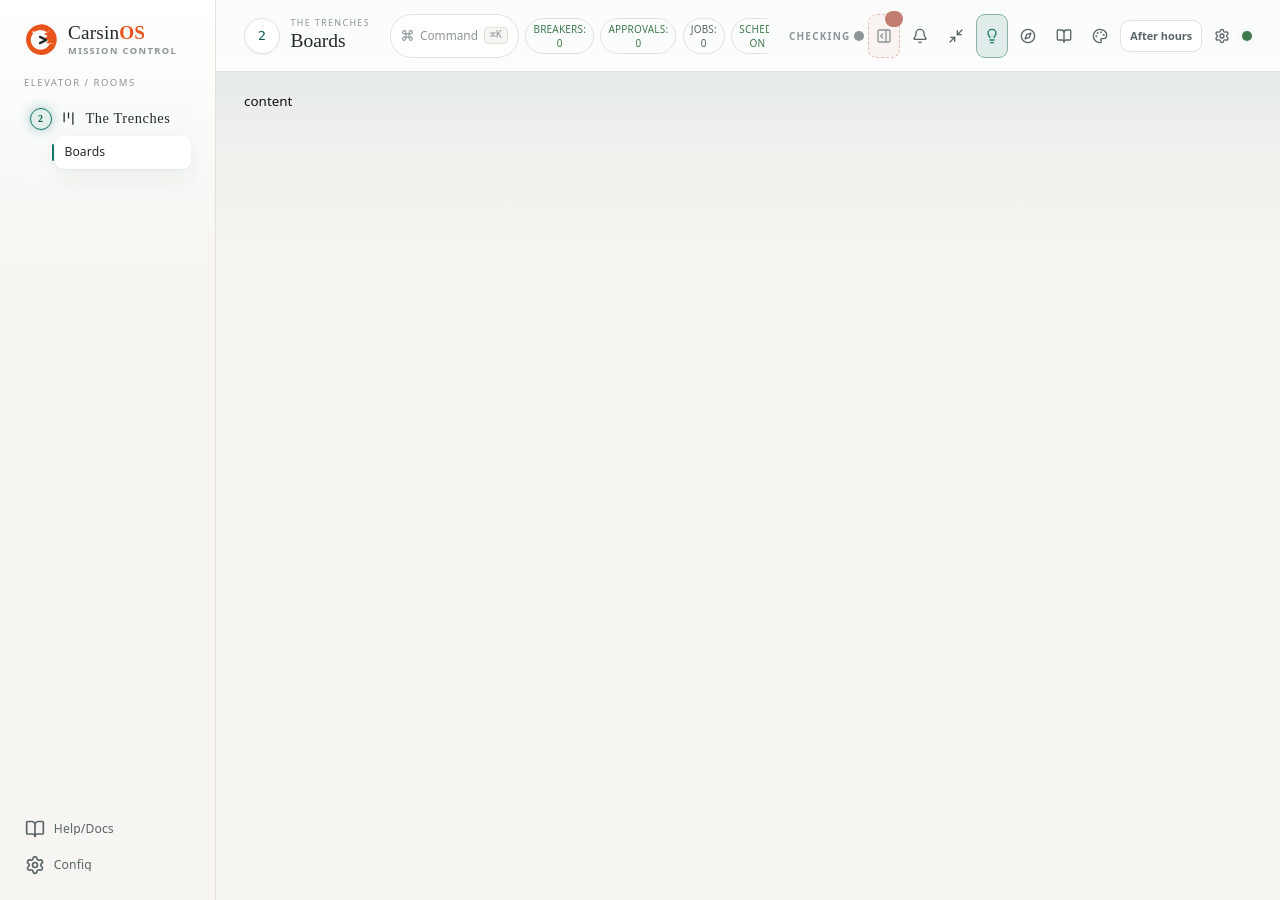
Test: AppShell live feed toggle › opens settings when the live feed feature is unavailable
Click the button with test id "live-feed-toggle" at (884, 36), box [868,14,900,58]
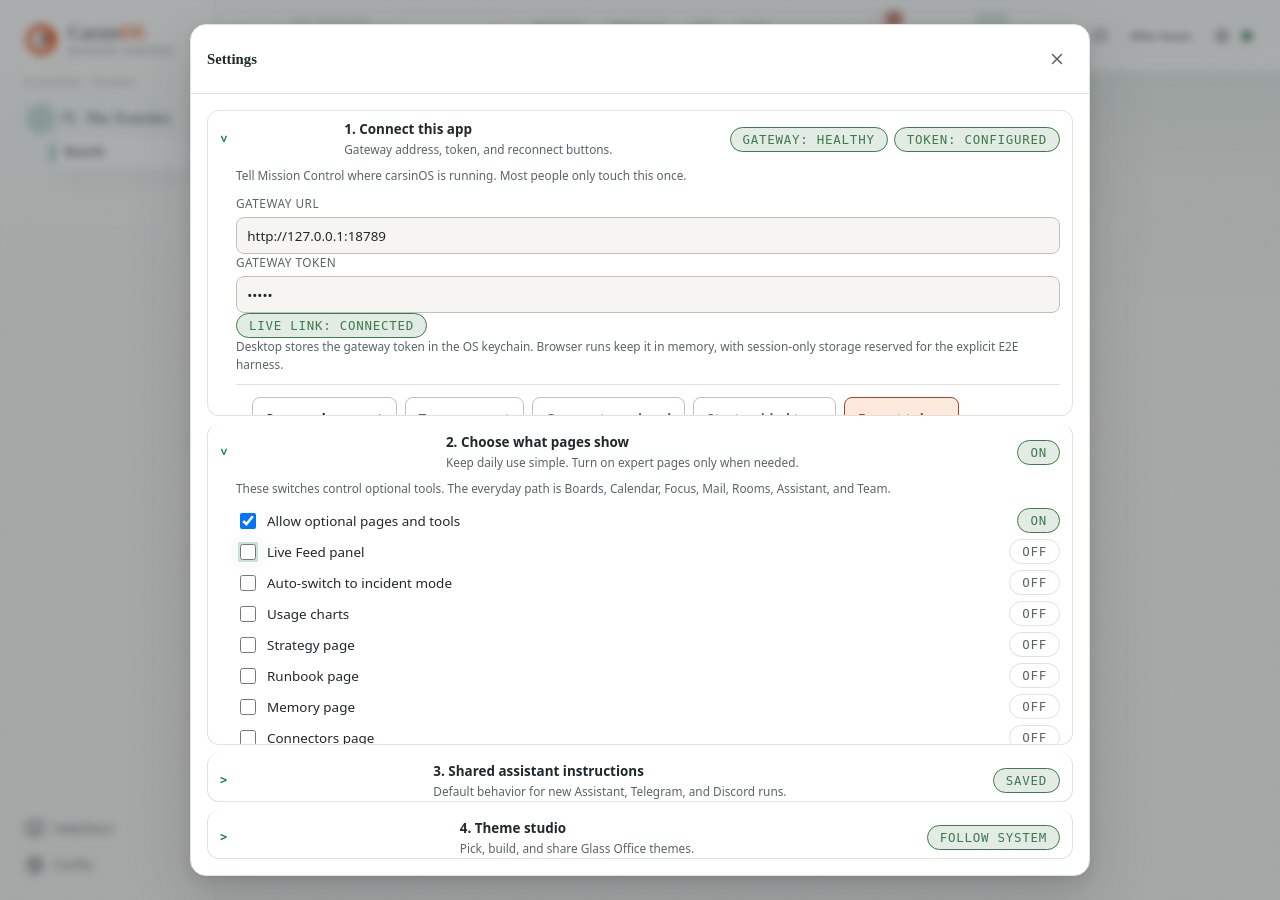
Check: the text "Choose what pages show" is shown, box [446,433,629,451]
Check: the checkbox labelled "Allow optional pages and tools" is shown, box [240,512,256,528]
